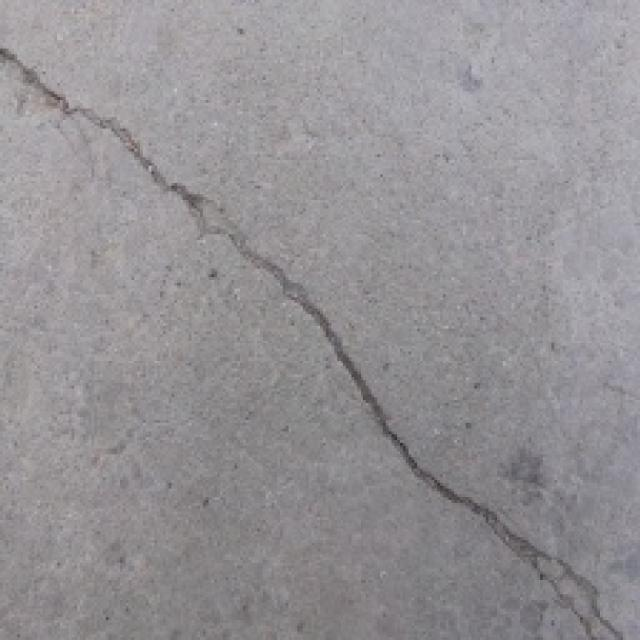SurfaceCrack: (4, 32, 640, 640)
